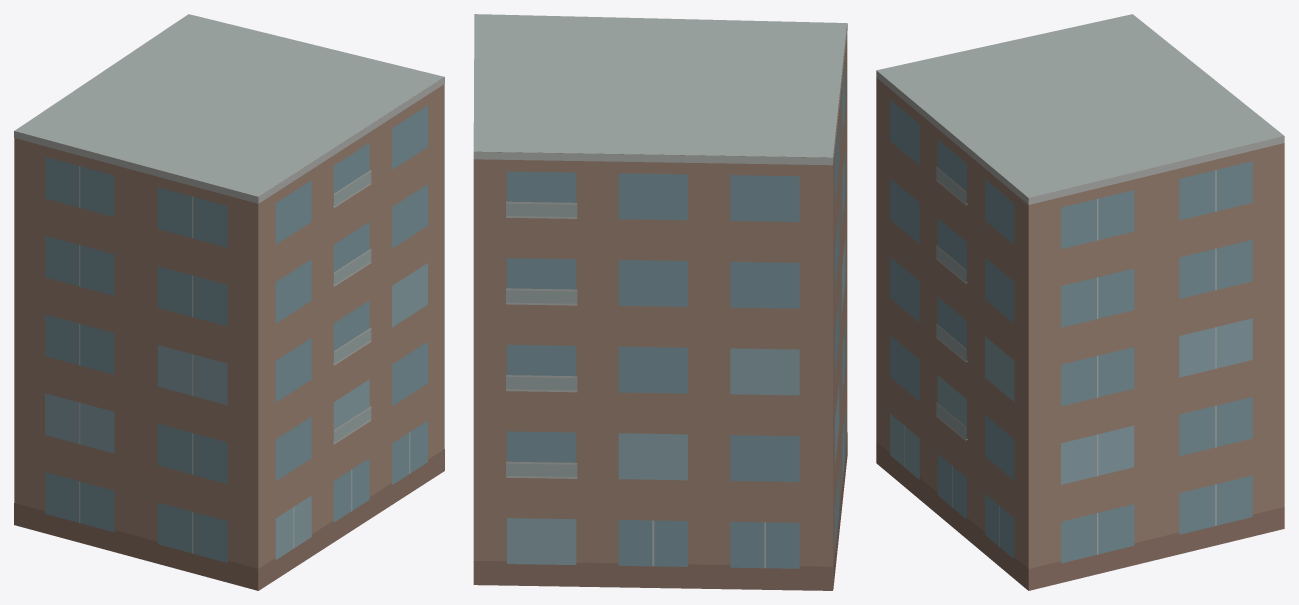
Rendered from survey-upis-32755511.glb.
The picture shows the model from 3 angles, left to right: view 1: azimuth 30°, elevation 25°; view 2: azimuth 150°, elevation 25°; view 3: azimuth 270°, elevation 25°; orthographic projection. The views are drawn at different scales.
Visible parts, largest first — view 1: survey-upis-32755511.tmp; view 2: survey-upis-32755511.tmp; view 3: survey-upis-32755511.tmp.
Boxes of the visible parts, x1,y1,x2,y2 form: survey-upis-32755511.tmp: (14,14,444,590); survey-upis-32755511.tmp: (473,14,847,590); survey-upis-32755511.tmp: (876,14,1284,590).
Size of the model in its own units: 13.83 by 13.75 by 12.96.
